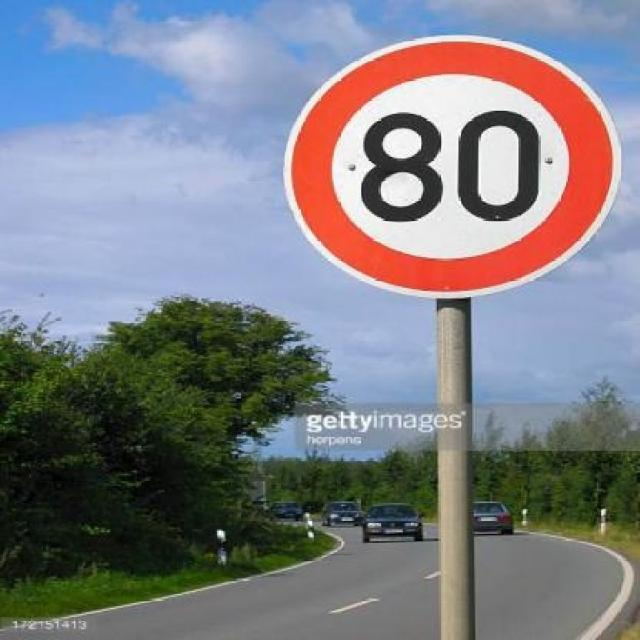forb_speed_over_80: (323, 71, 592, 274)
